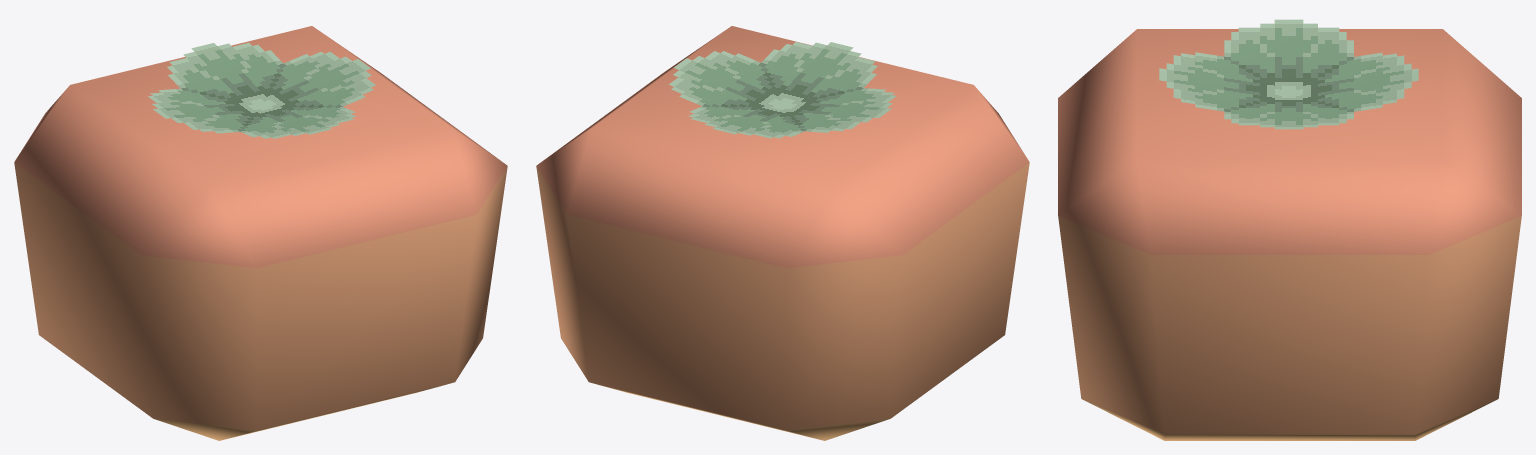
The model's file is 0002_Persimmon.glb.
The picture shows the model from 3 angles, left to right: view 1: azimuth 30°, elevation 25°; view 2: azimuth 150°, elevation 25°; view 3: azimuth 270°, elevation 25°; orthographic projection. The views are drawn at different scales.
Parts seen in each view (by area): view 1: part_0; view 2: part_0; view 3: part_0.
Boxes of the visible parts, x1=… form: part_0: x1=14, y1=26, x2=507, y2=440; part_0: x1=536, y1=26, x2=1029, y2=440; part_0: x1=1058, y1=19, x2=1521, y2=440.
Bounding box in the file's own units: 0.1 × 0.075 × 0.1.
1 material, 1 textured.
